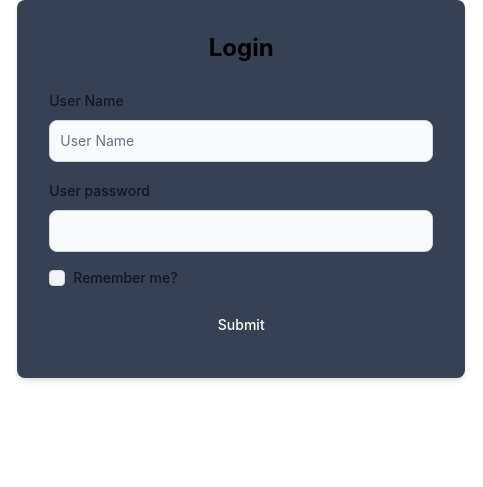
Test: LoginPage › submits the form and displays error message
Type "test@example.com" into the field named "User name input". click: (241, 141)
box: [49, 120, 433, 162]
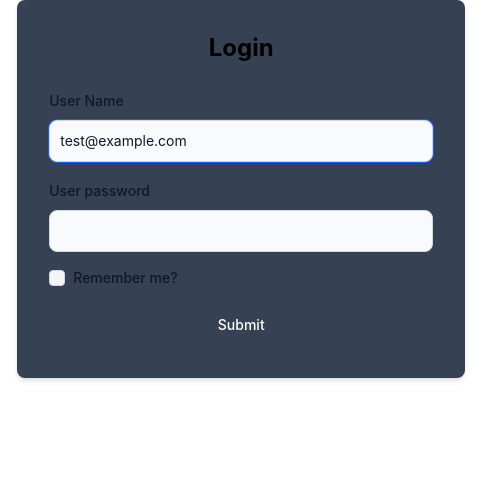
Type "password" into the password field named "Password input". click: (241, 231)
box: [49, 210, 433, 252]
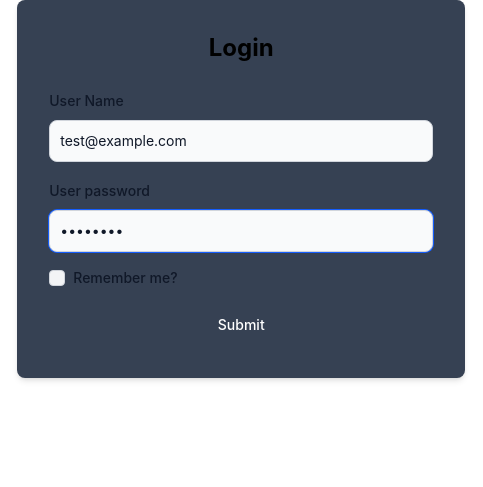
Click the checkbox named "Remember-me checkbox". click: (57, 278)
box: [49, 270, 65, 286]
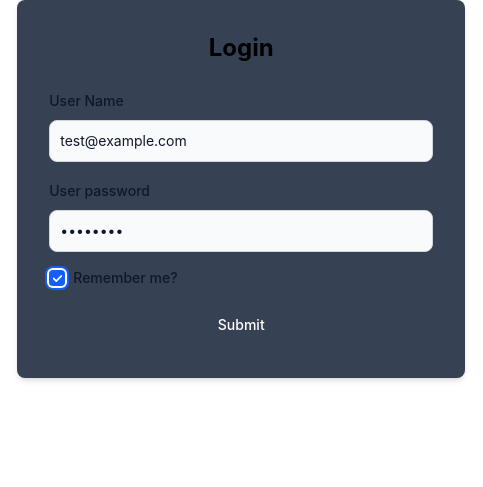
Click the button "Submit". click: (241, 325)
box: [49, 304, 433, 346]
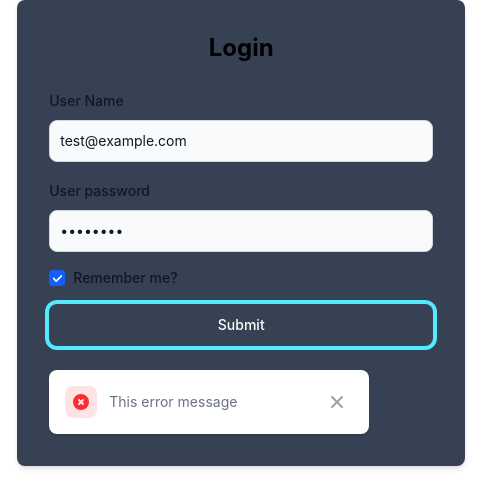
Result: the text "This error message" is shown at [109, 392, 237, 412]
